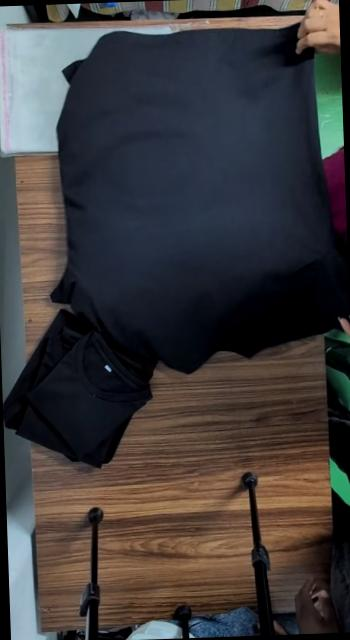new-garment: (52, 26, 350, 372)
